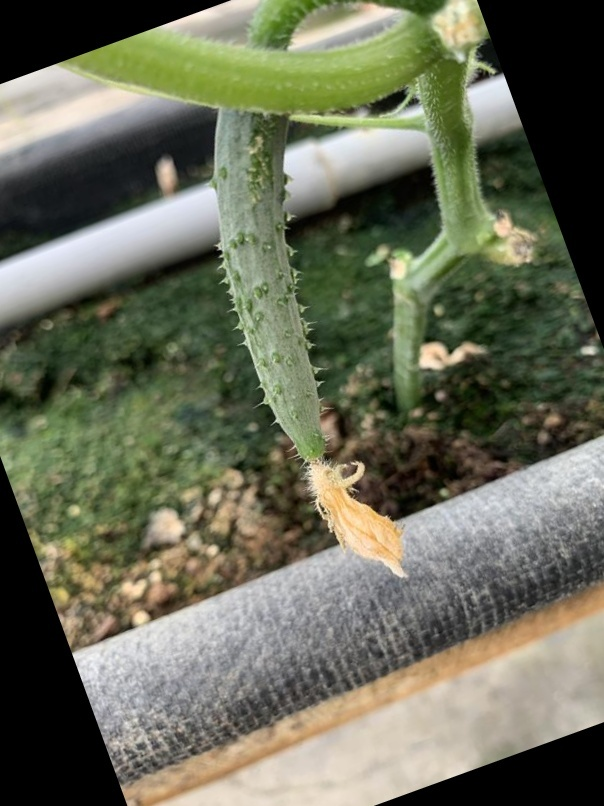bear: (177, 98, 409, 605)
